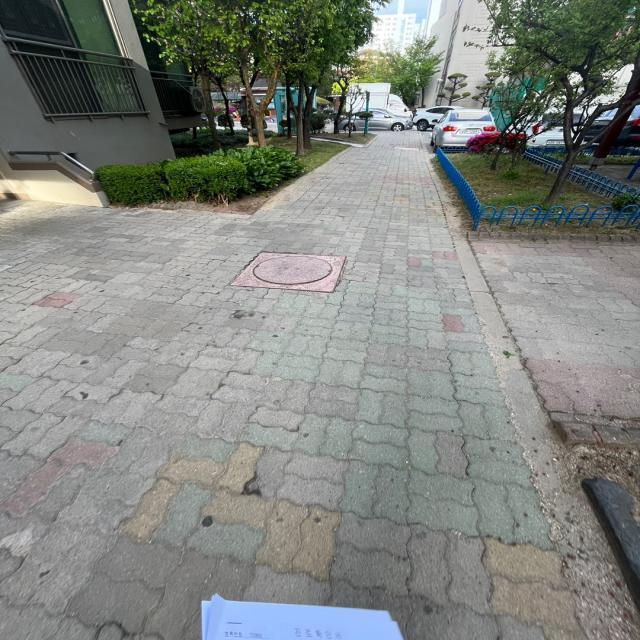manhole: (232, 252, 344, 292)
